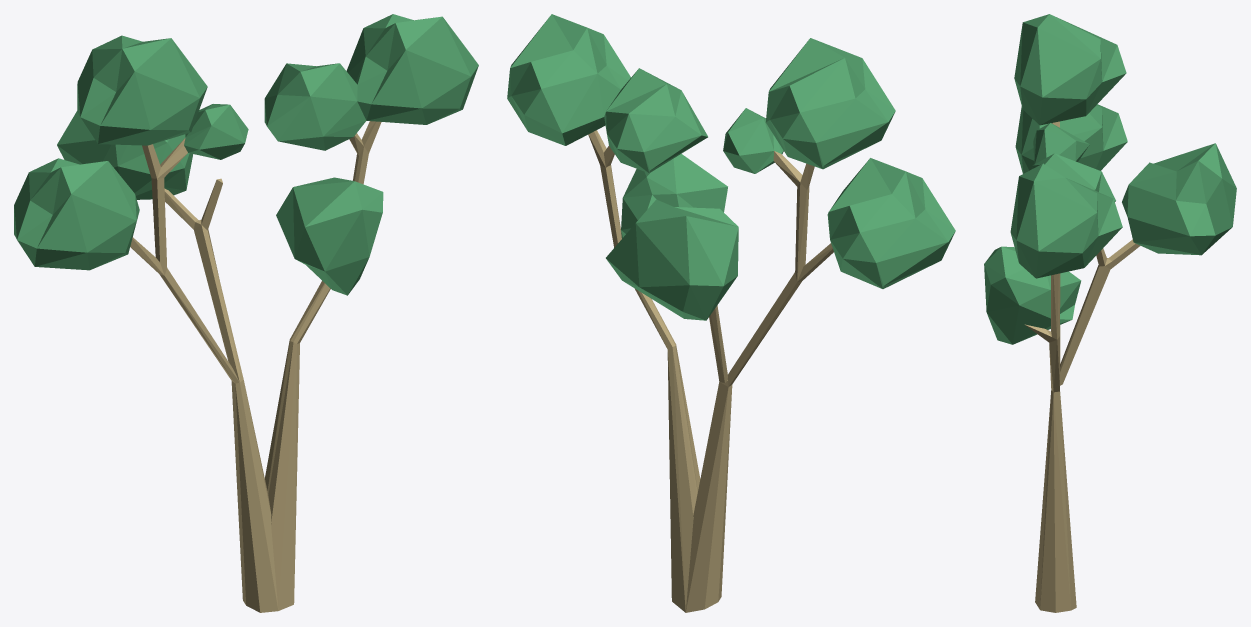
File: tree49.fbx
3 views of the same model, side by side, from view 1: azimuth 30°, elevation 25°; view 2: azimuth 150°, elevation 25°; view 3: azimuth 270°, elevation 25° (orthographic). The views are drawn at different scales.
Parts seen in each view (by area): view 1: treetype49.001; view 2: treetype49.001; view 3: treetype49.001.
Boxes of the visible parts, left/top/right/bottom form: treetype49.001: left=14, top=14, right=478, bottom=612; treetype49.001: left=507, top=14, right=955, bottom=612; treetype49.001: left=984, top=14, right=1236, bottom=612.
Size of the model in its own units: 200 by 253 by 108.
